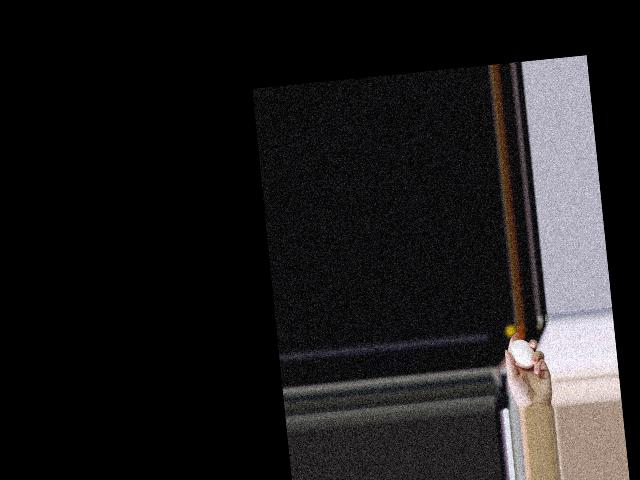egg: (509, 337, 535, 369)
